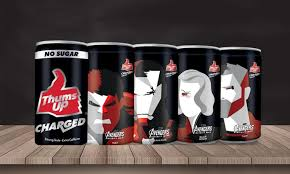thumbsup-glass: (29, 34, 89, 148)
